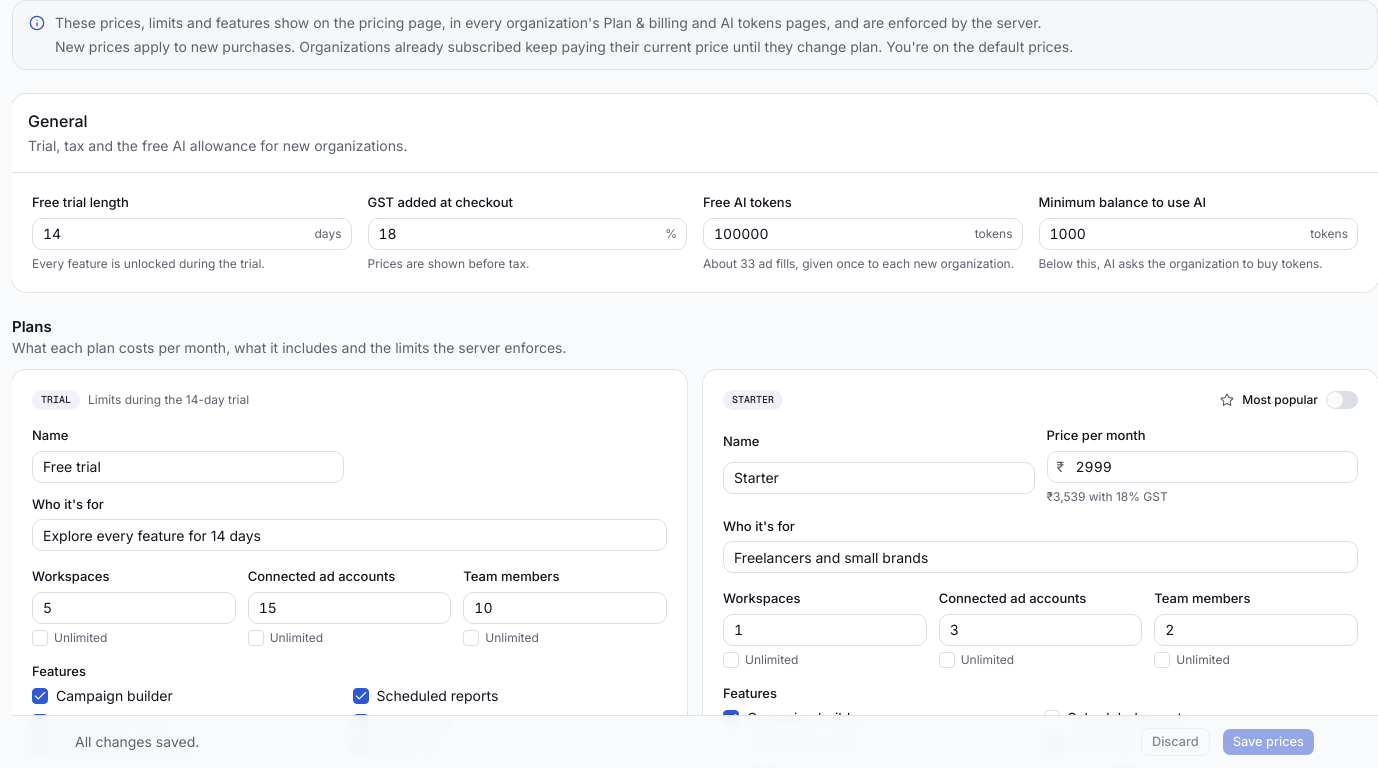
PricingEditor › NumberInput keeps typing smooth: digits only, empty while editing, restored on blur
Step 1. Clear the field labelled "Free trial length" → (192, 234), box [32,218,352,250]
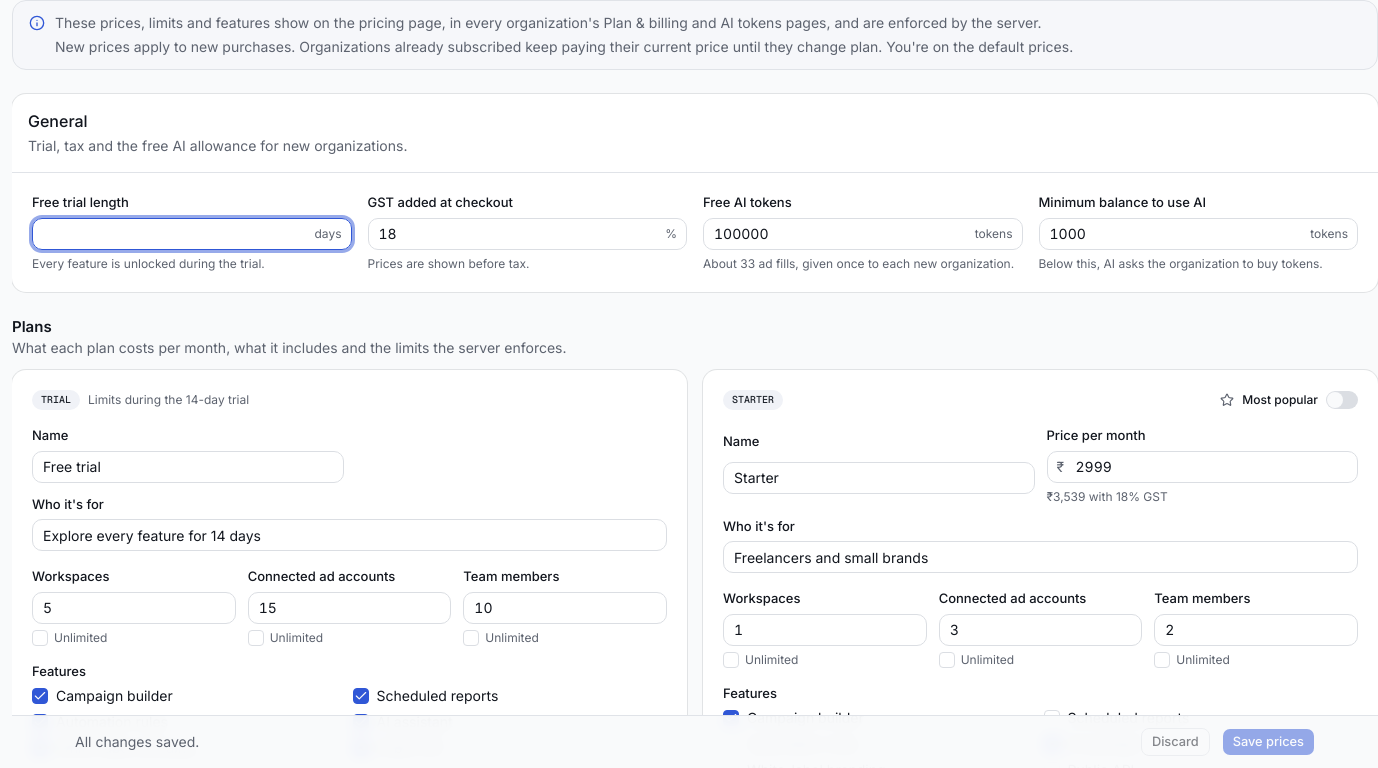
Step 2. Type "3x0" into the field labelled "Free trial length" → (192, 234), box [32,218,352,250]
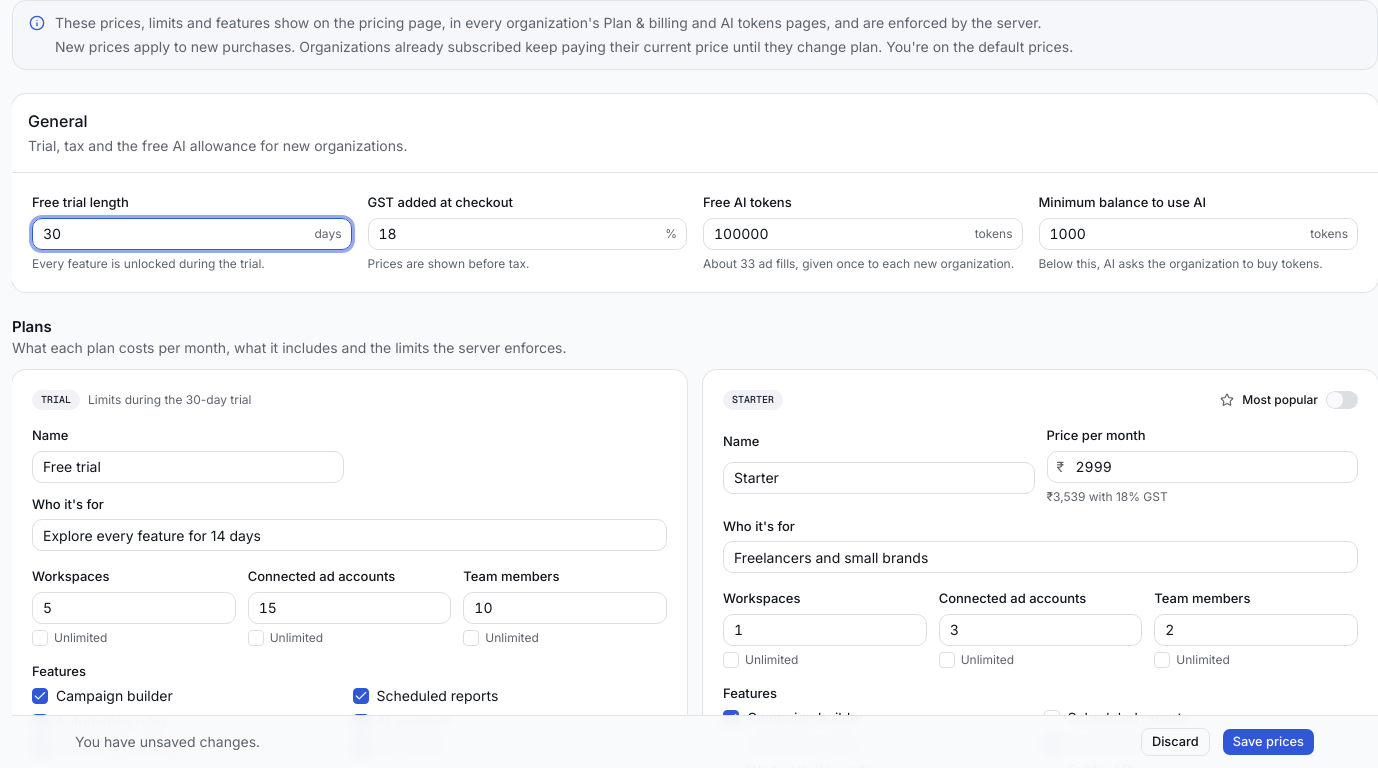
Result: the field labelled "Free trial length" holds "30"
Result: the text "You have unsaved changes." is shown at [75,733,260,750]
Result: the text "Limits during the 30-day trial" is shown at [88,392,252,408]
Step 3. Clear the field labelled "Free trial length" → (192, 234), box [32,218,352,250]
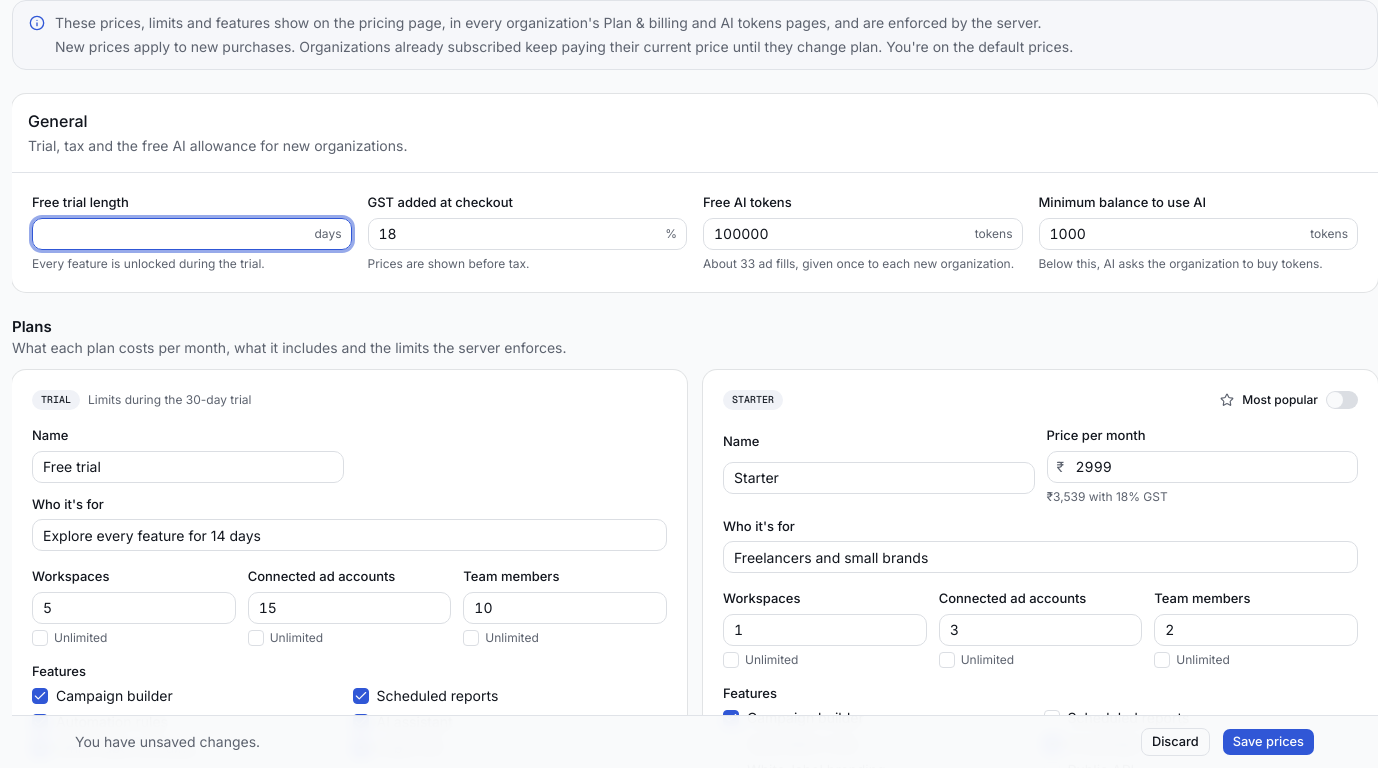
Step 4. Press Tab
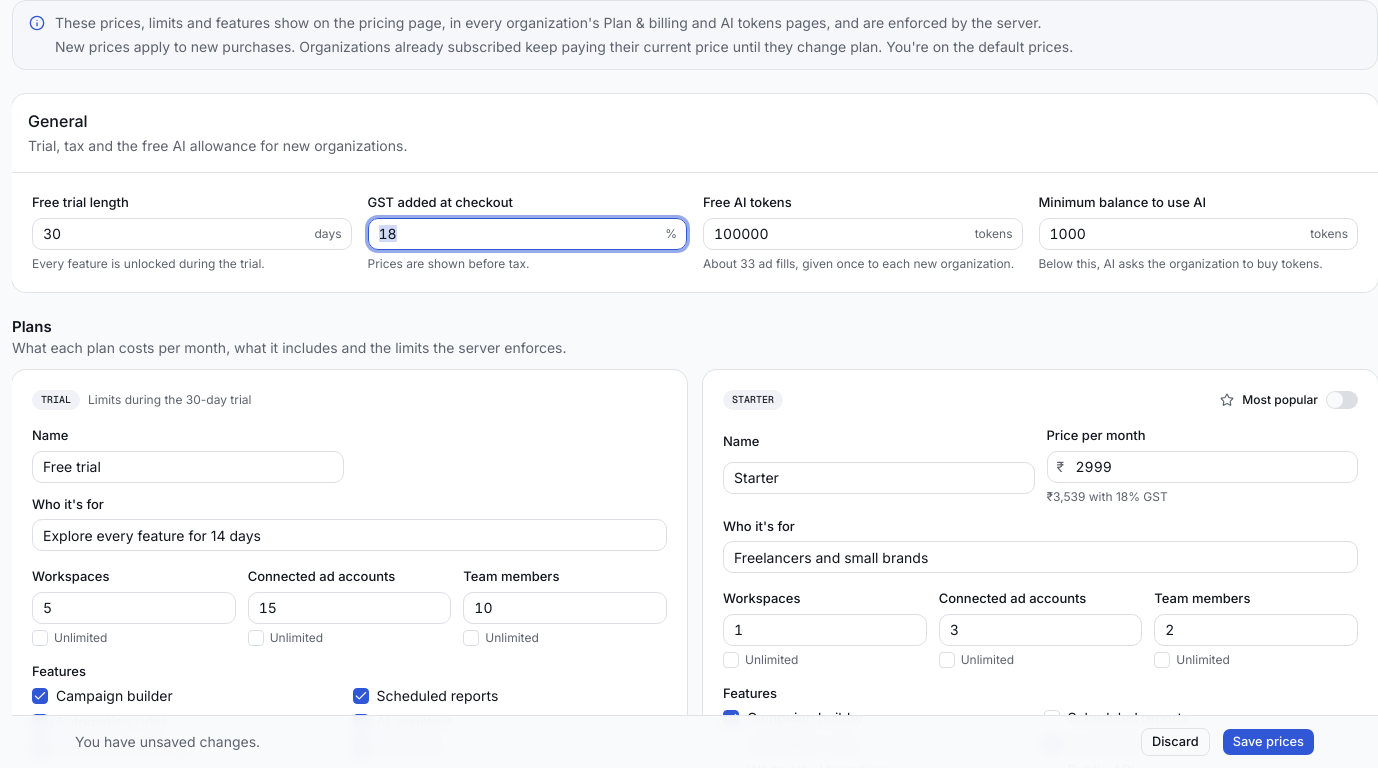
Result: the field labelled "Free trial length" holds "30" at [32,218,352,250]
